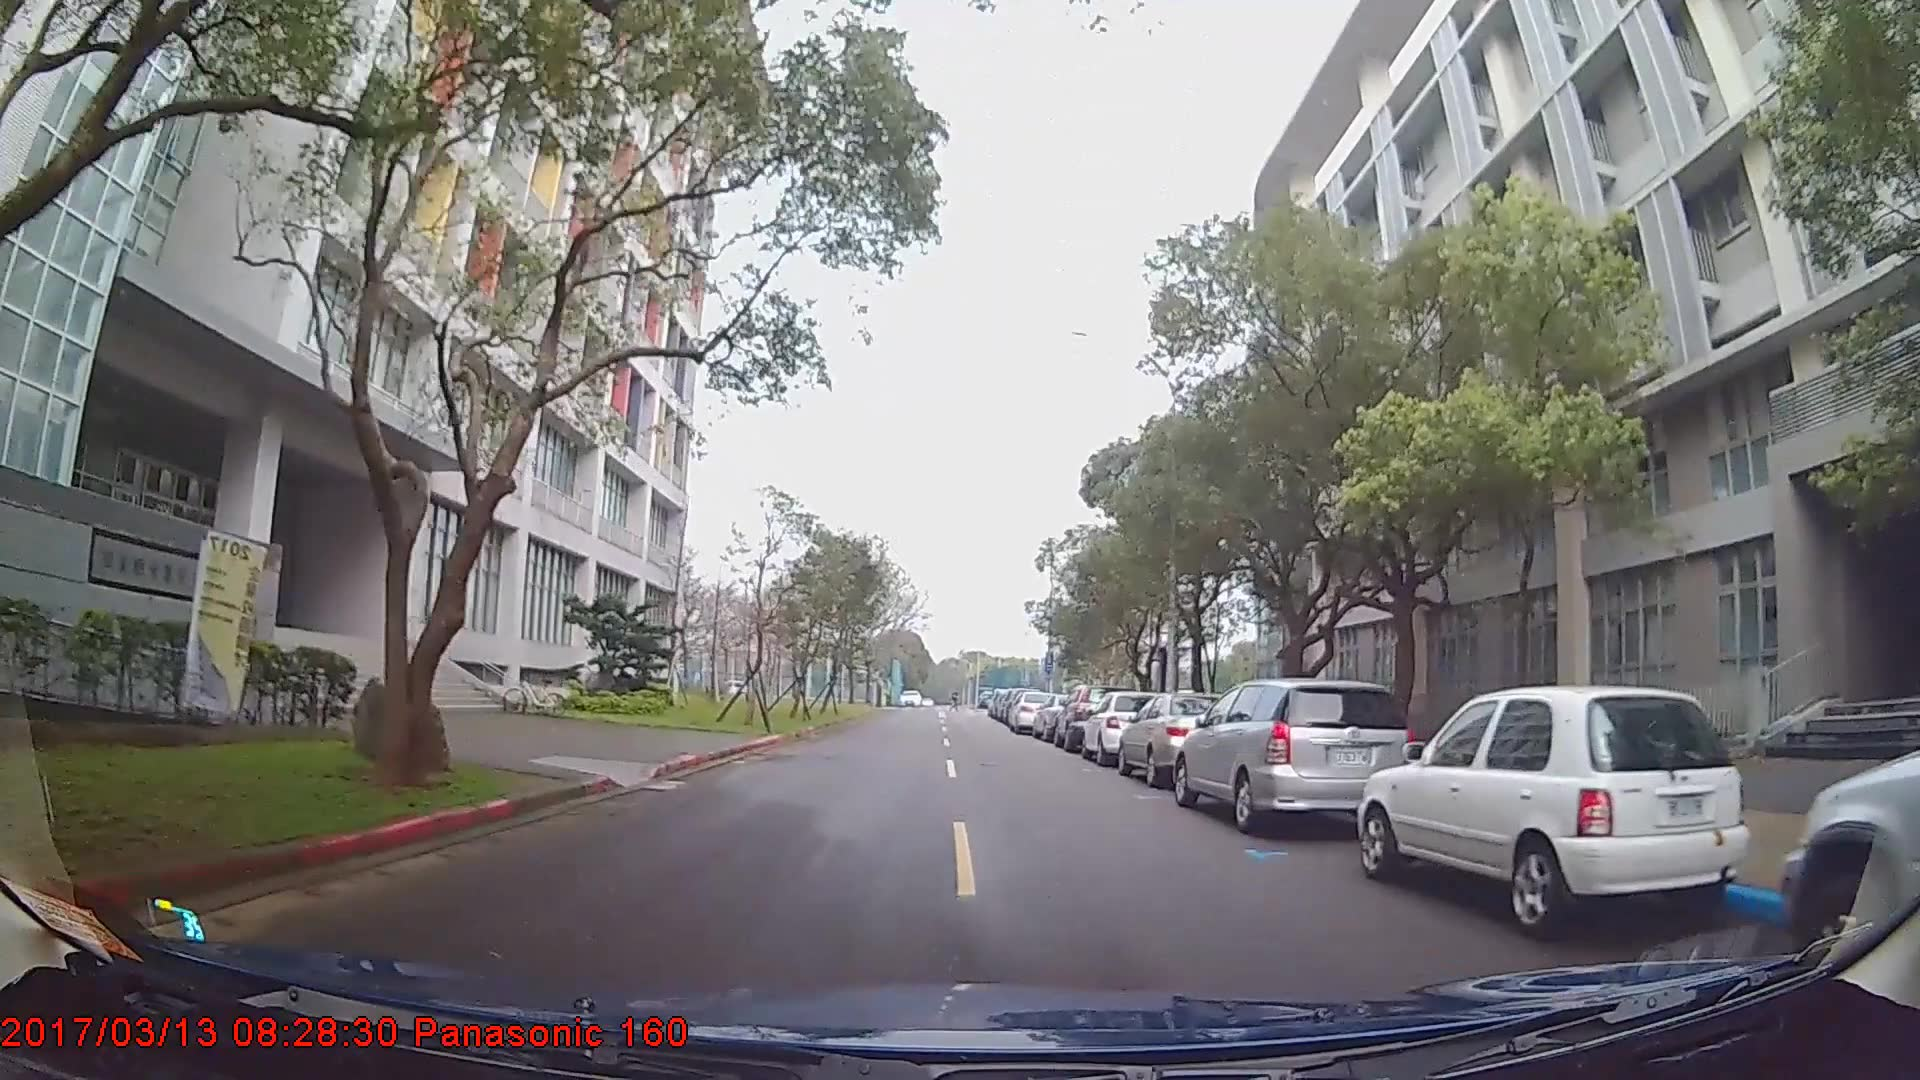vehicle: (1356, 683, 1751, 934), (1171, 676, 1416, 832), (1116, 688, 1250, 785), (1079, 688, 1163, 764), (1006, 687, 1062, 735)
